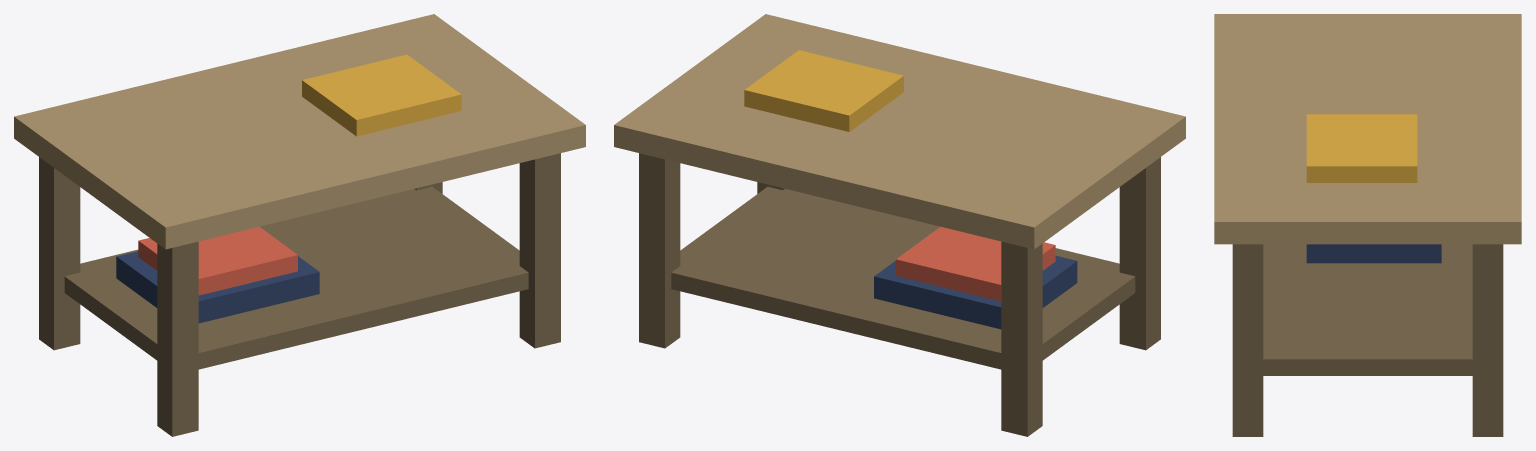
The model's file is coffee_table.glb.
3 renders of one model, left to right at view 1: azimuth 30°, elevation 25°; view 2: azimuth 150°, elevation 25°; view 3: azimuth 270°, elevation 25°, orthographic.
Visible parts, largest first — view 1: coffee_table_Body; view 2: coffee_table_Body; view 3: coffee_table_Body.
Part boxes in pixels (<box>): coffee_table_Body: <box>14,14,585,436</box>; coffee_table_Body: <box>614,14,1185,436</box>; coffee_table_Body: <box>1214,14,1521,436</box>.
Bounding box in the file's own units: 0.8 × 0.43 × 0.5.
